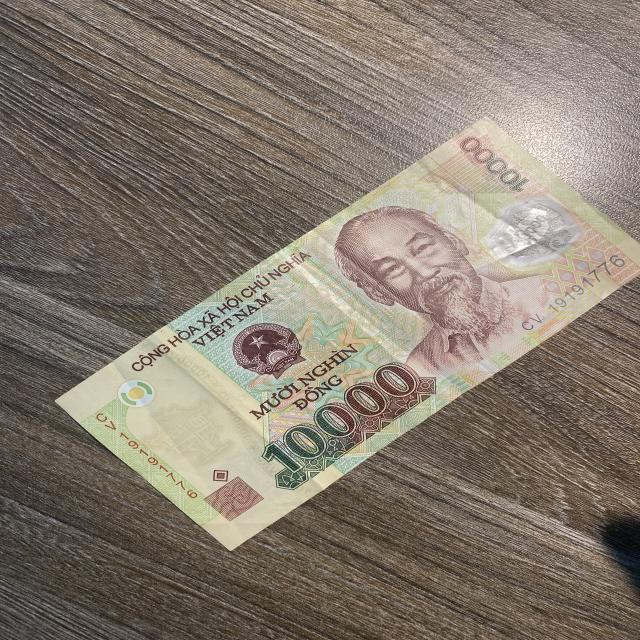10 000 VND: (51, 115, 640, 555)
